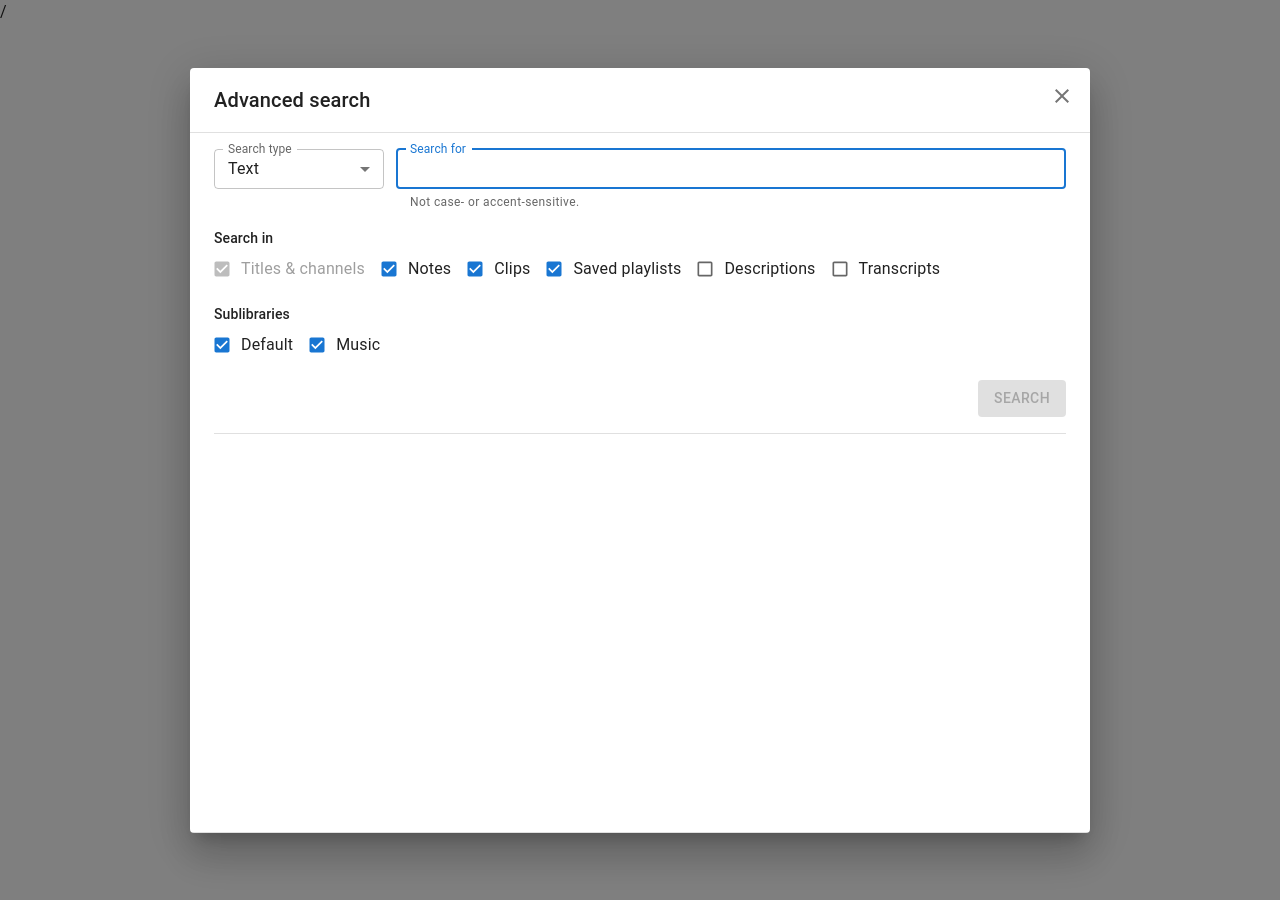
Scenario: AdvancedSearchDialog › runs a text search over every sublibrary with the default fields
This screenshot has width=1280, height=900.
Type "rust" into the field labelled "Search for" at (731, 168), box 396,148 -> 1066,188
Then press Enter
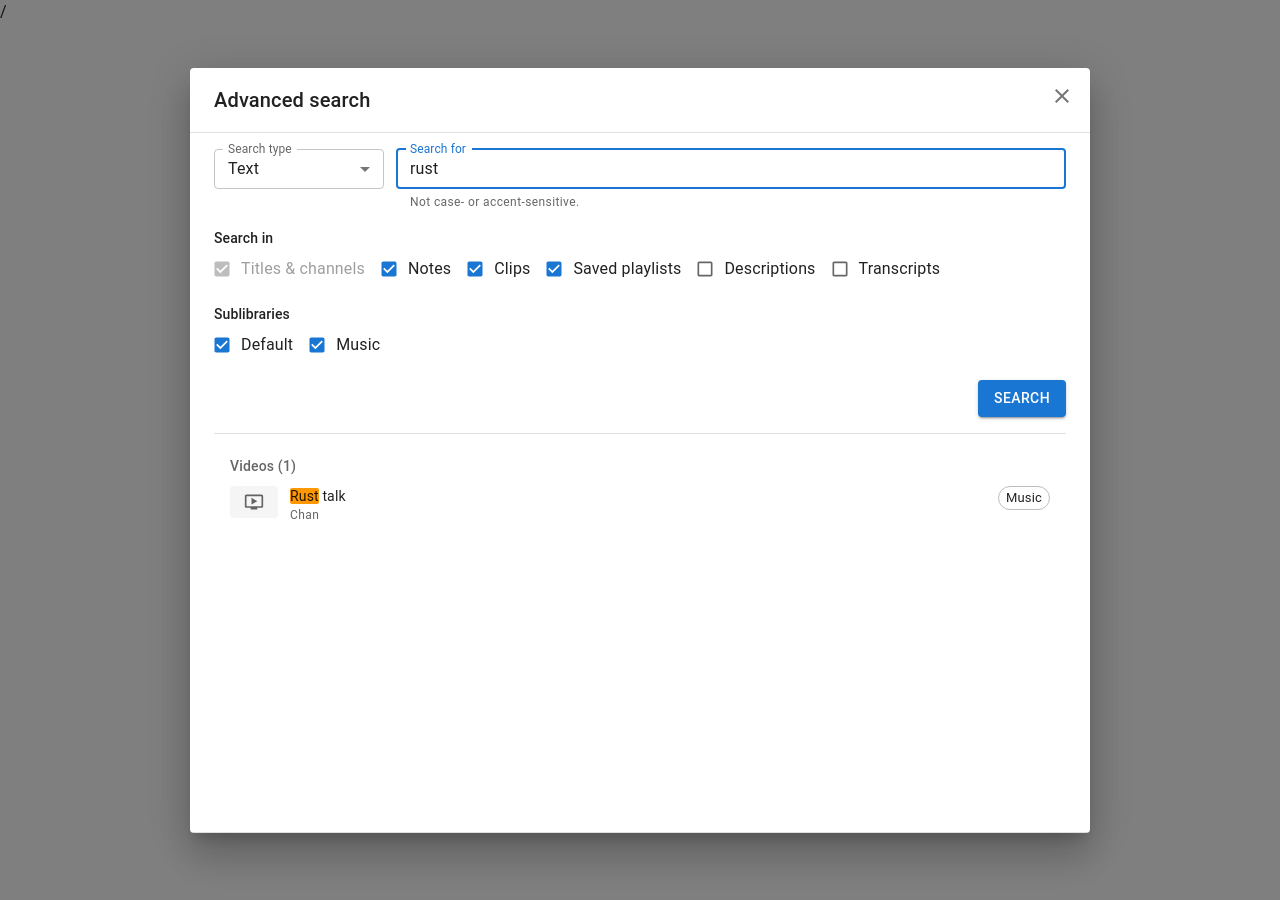
Expected: the list item "Videos (1)" is shown, 230,458 -> 296,474
